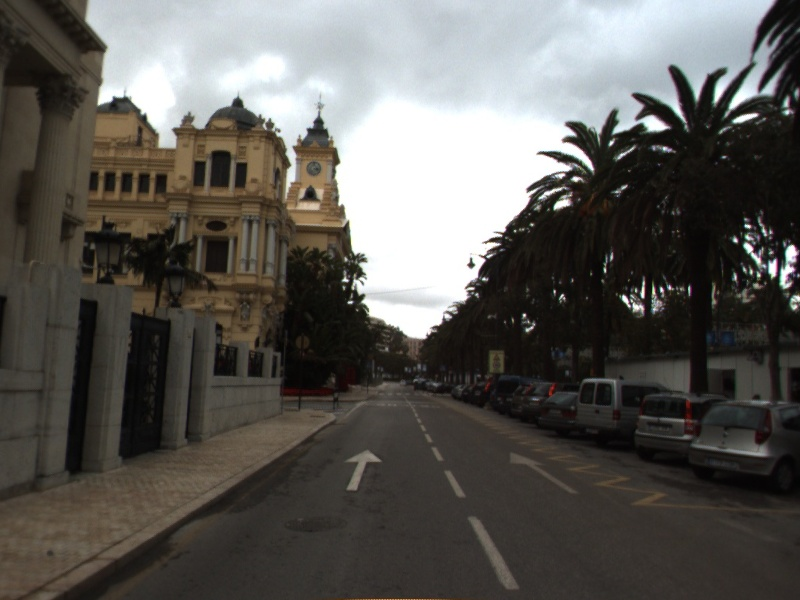STRAIGHT: (508, 450, 581, 495), (342, 447, 385, 492)
